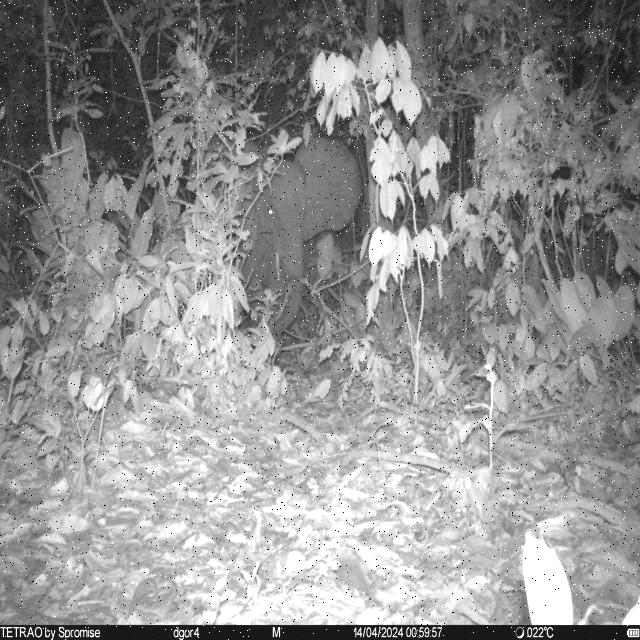ear: (293, 137, 362, 246), (190, 133, 264, 224)
elephant: (190, 133, 363, 340)
tusk: (274, 250, 284, 282)
